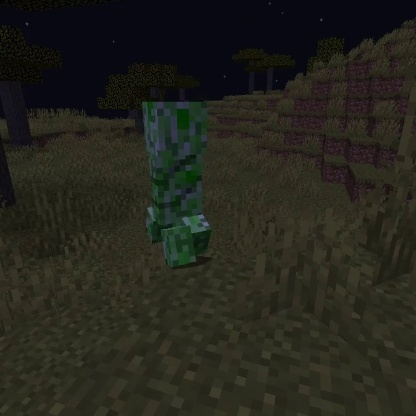creeper: (138, 98, 215, 270)
